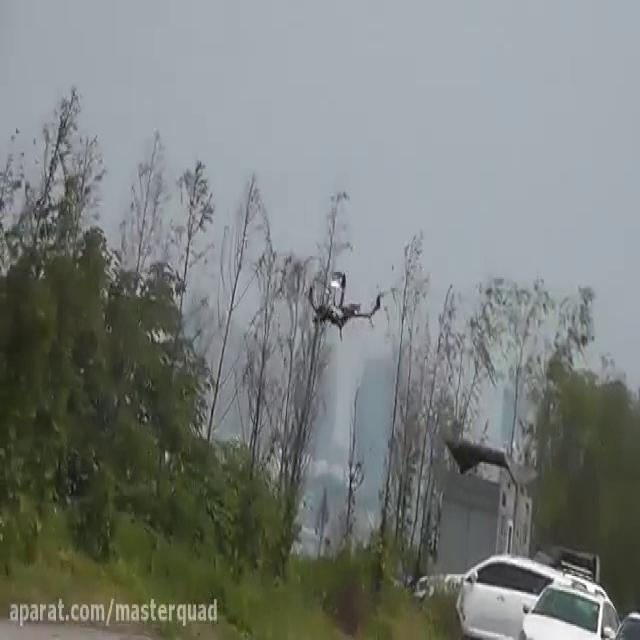drone: (302, 270, 386, 343)
